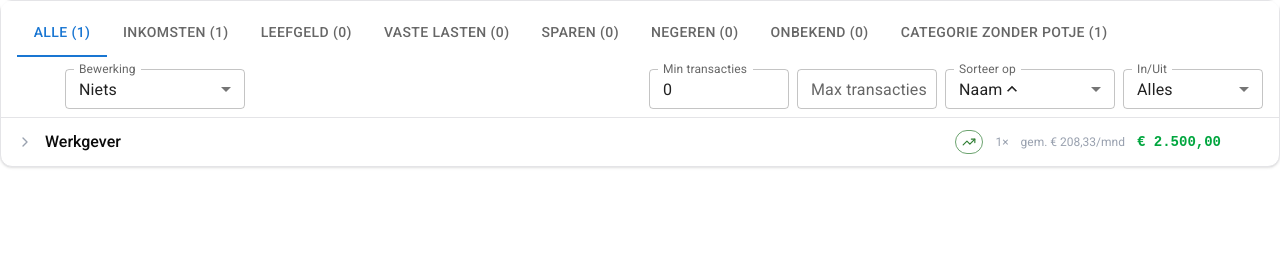
Test: CategoryBreakdown › allows selecting eenmalig koppelen outside the onbekend tab
The image size is (1280, 263).
Click the tab "Inkomsten (1)": (176, 33) [107,9,245,57]
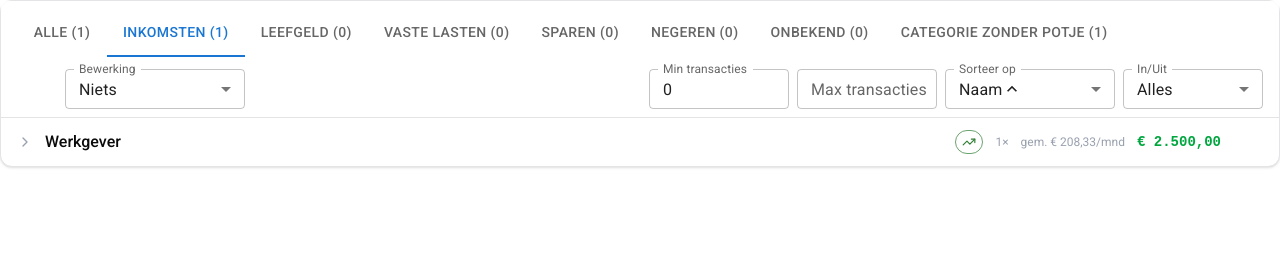
Press the mouse on the dropdown named "bewerking": (98, 89) [79,80,117,98]
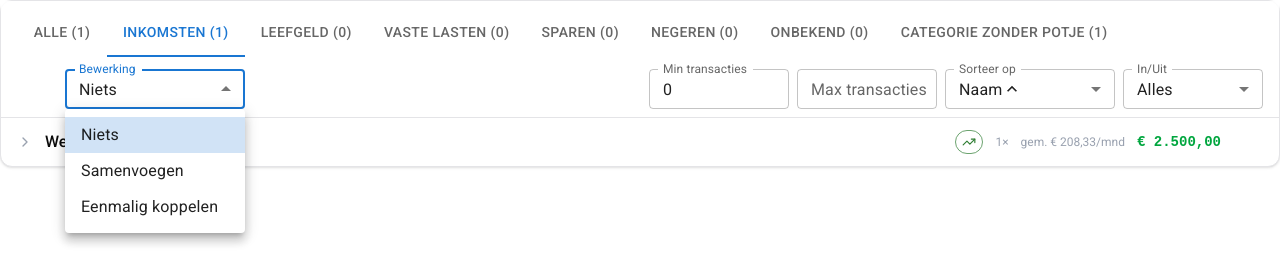
Click the option "Eenmalig koppelen": (150, 206) [81,197,218,216]
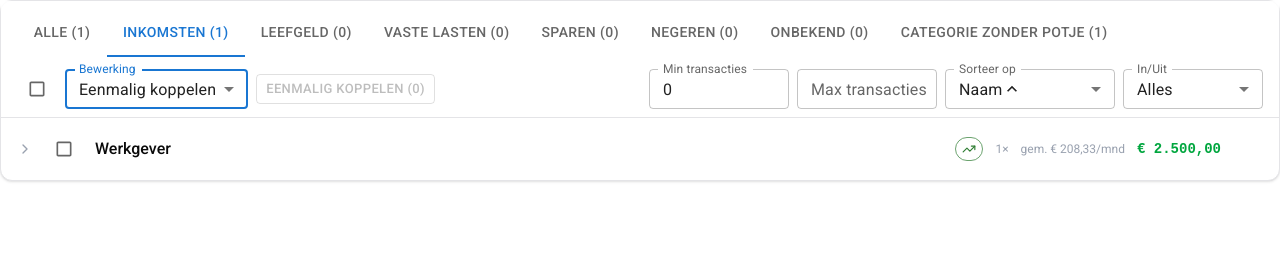
Expected: the checkbox named "alle zichtbare groepen" is shown, [27,79,47,99]
Expected: the button "Eenmalig koppelen (0)" is disabled, [256,74,435,104]
